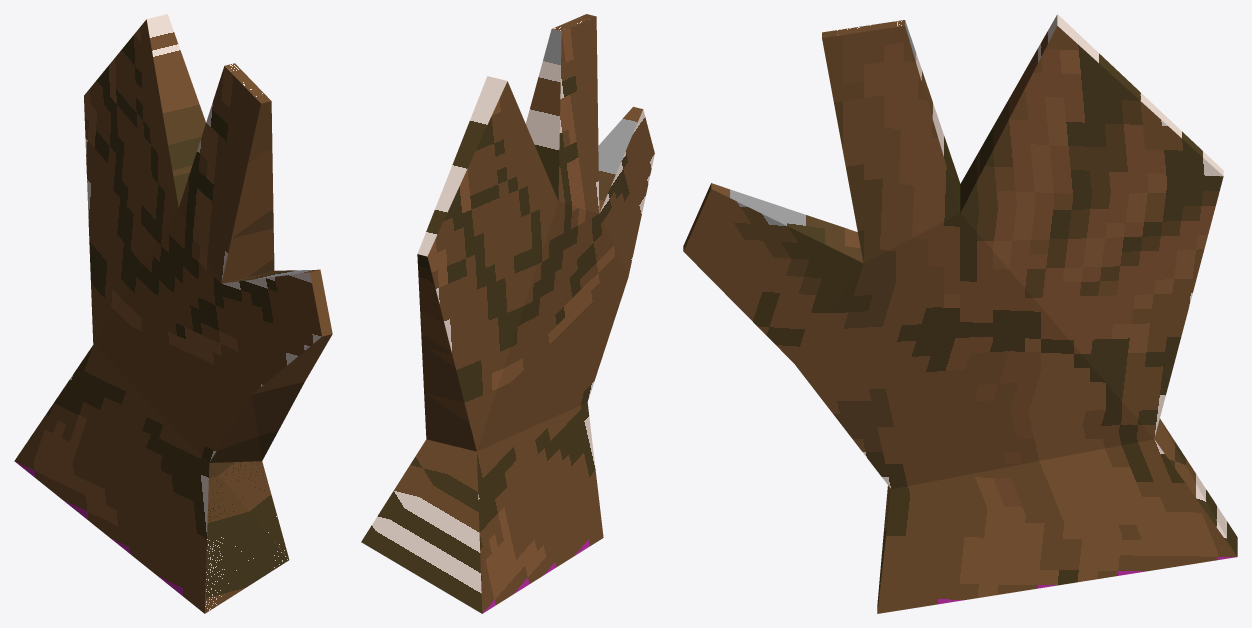
The picture shows the model from 3 angles, left to right: view 1: azimuth 30°, elevation 25°; view 2: azimuth 150°, elevation 25°; view 3: azimuth 270°, elevation 25°; orthographic projection. The views are drawn at different scales.
Parts seen in each view (by area): view 1: prim238-glove; view 2: prim238-glove; view 3: prim238-glove.
Part boxes in pixels (bbox=[...]): prim238-glove: bbox=[14, 14, 332, 613]; prim238-glove: bbox=[361, 14, 654, 613]; prim238-glove: bbox=[683, 14, 1237, 613].
Size of the model in its own units: 12 by 48 by 40.
Materials: 1 (1 with a texture image).
